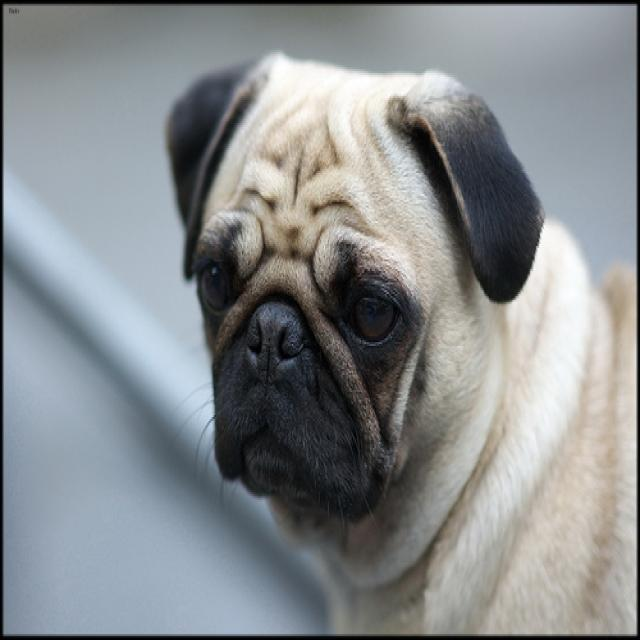dog-pug: (152, 35, 637, 636)
